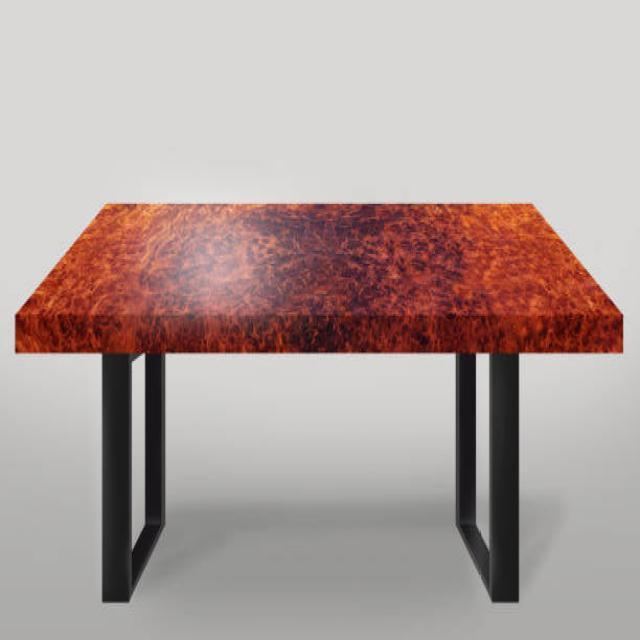table: (14, 199, 624, 605)
